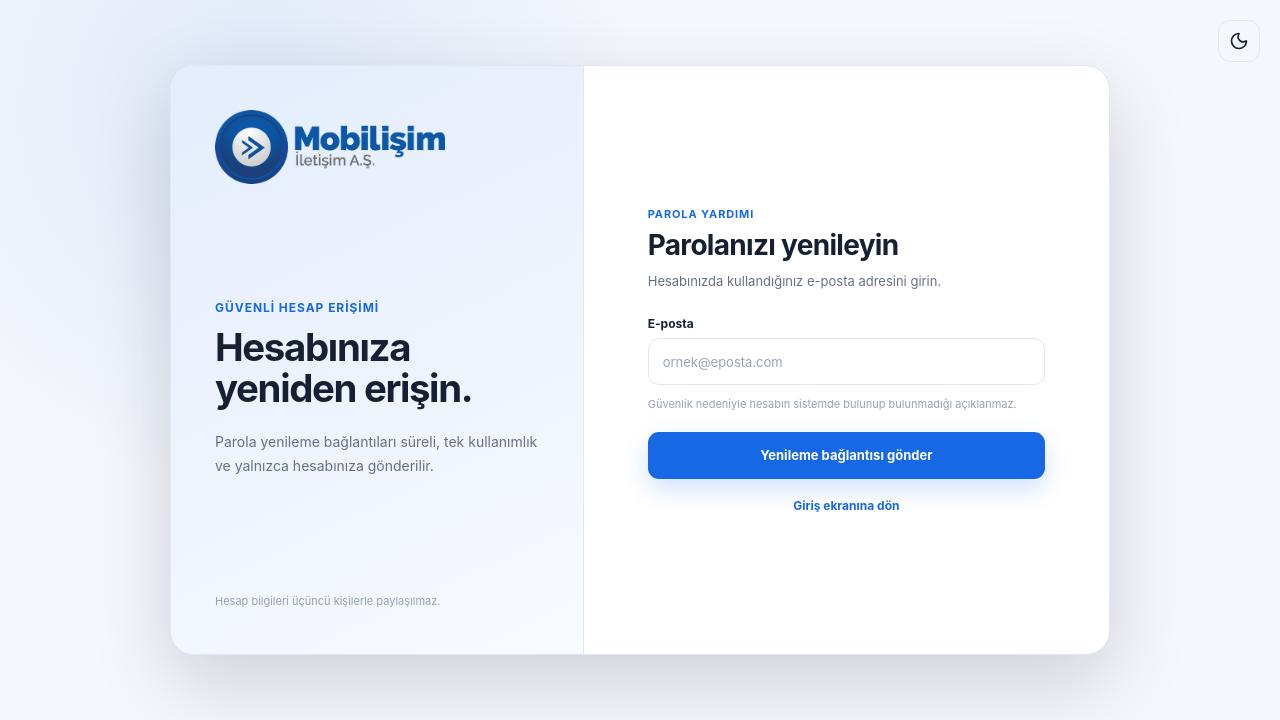
Test: ForgotPasswordScreen › normalleştirilmiş e-postayı gönderip genel başarı mesajı gösterir
The width and height of the screenshot is (1280, 720).
Type "  USER@EXAMPLE.COM  " into the field labelled "E-posta". click: [846, 362]
box: [648,338,1045,385]
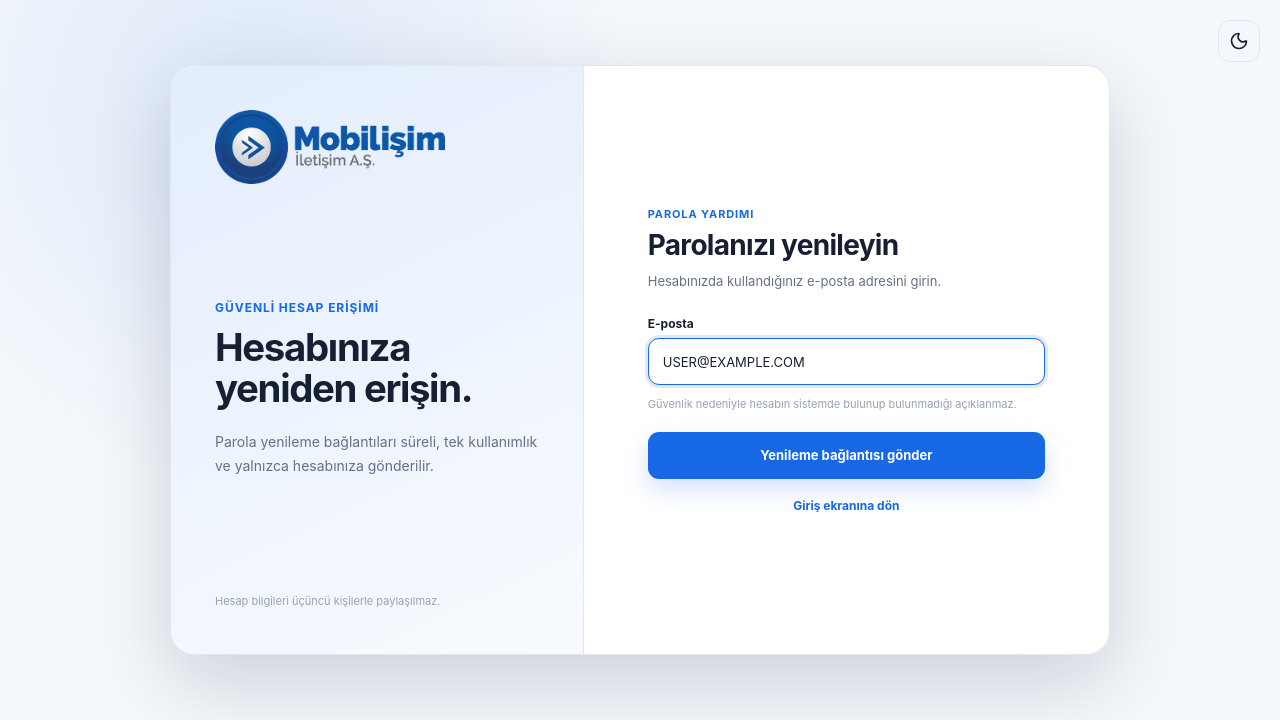
Click the button "Yenileme bağlantısı gönder". click: [846, 455]
box: [648,432,1045,479]
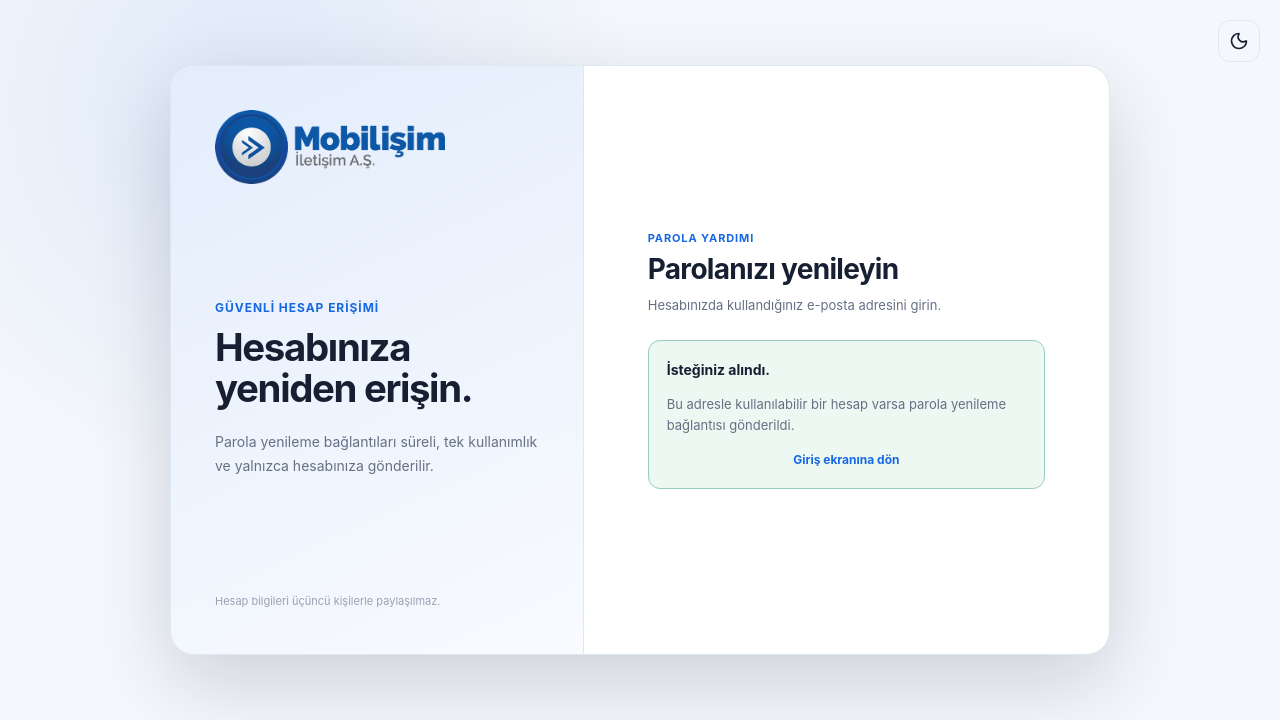
Result: the message shows "İsteğiniz alındı." at [667,362,770,378]
Result: the message shows "bir hesap varsa" at [667,396,1006,433]
